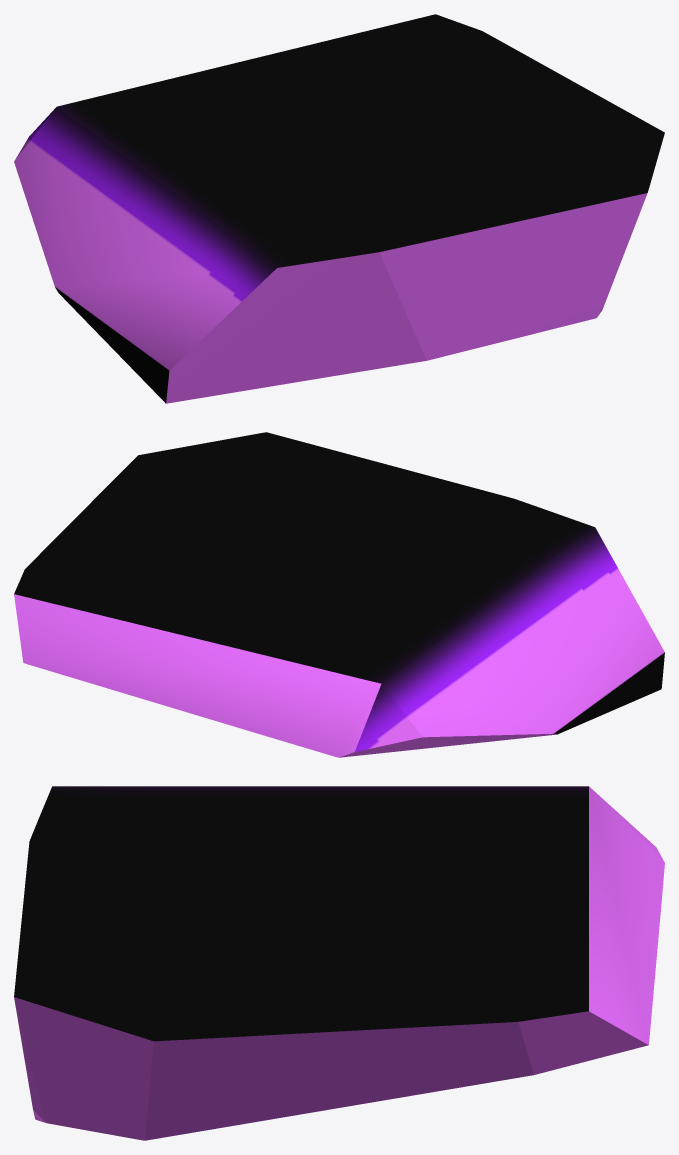
File: blockParticle_7.gltf
3 renders of one model, top to bottom at view 1: azimuth 30°, elevation 25°; view 2: azimuth 150°, elevation 25°; view 3: azimuth 270°, elevation 25°, orthographic. The views are drawn at different scales.
Parts seen in each view (by area): view 1: 立方体_cell.008; view 2: 立方体_cell.008; view 3: 立方体_cell.008.
Boxes of the visible parts, x1,y1,x2,y2 form: 立方体_cell.008: (14, 14, 664, 403); 立方体_cell.008: (14, 432, 664, 757); 立方体_cell.008: (14, 786, 664, 1140).
Size of the model in its own units: 1.23 by 0.2922 by 1.09.
2 materials, 2 textured.
